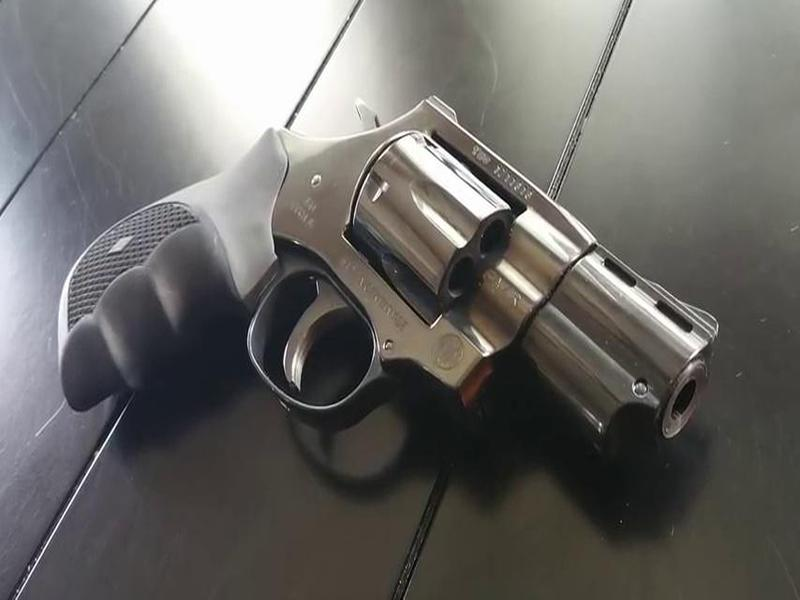Revolver: (60, 76, 732, 484)
